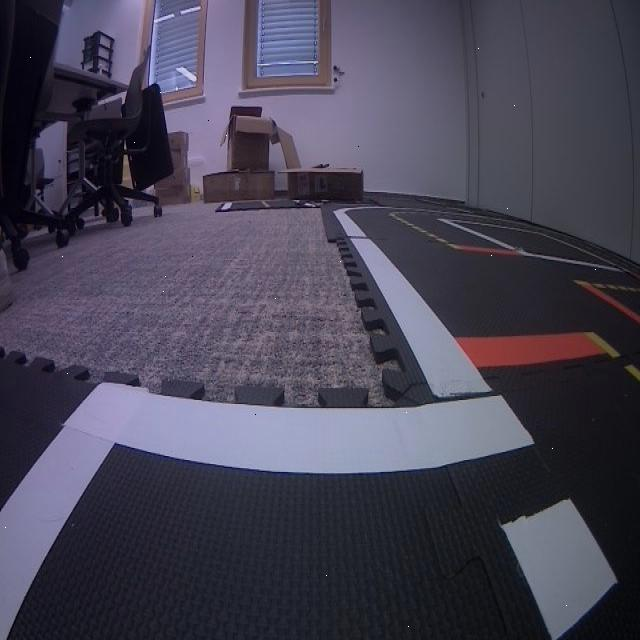park: (1, 384, 634, 639)
